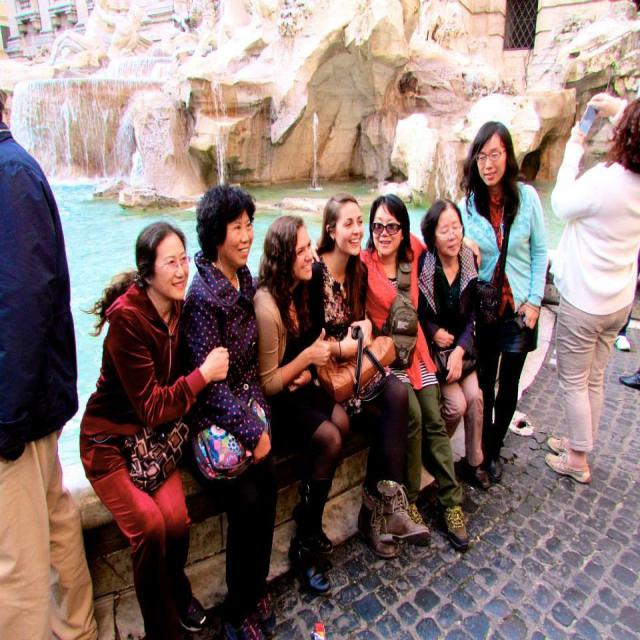body: (77, 218, 231, 639), (311, 191, 484, 551), (0, 78, 103, 639), (309, 190, 433, 560), (183, 183, 279, 640), (544, 87, 640, 487), (253, 215, 352, 597), (453, 119, 548, 482), (415, 198, 493, 492), (614, 286, 640, 399)
